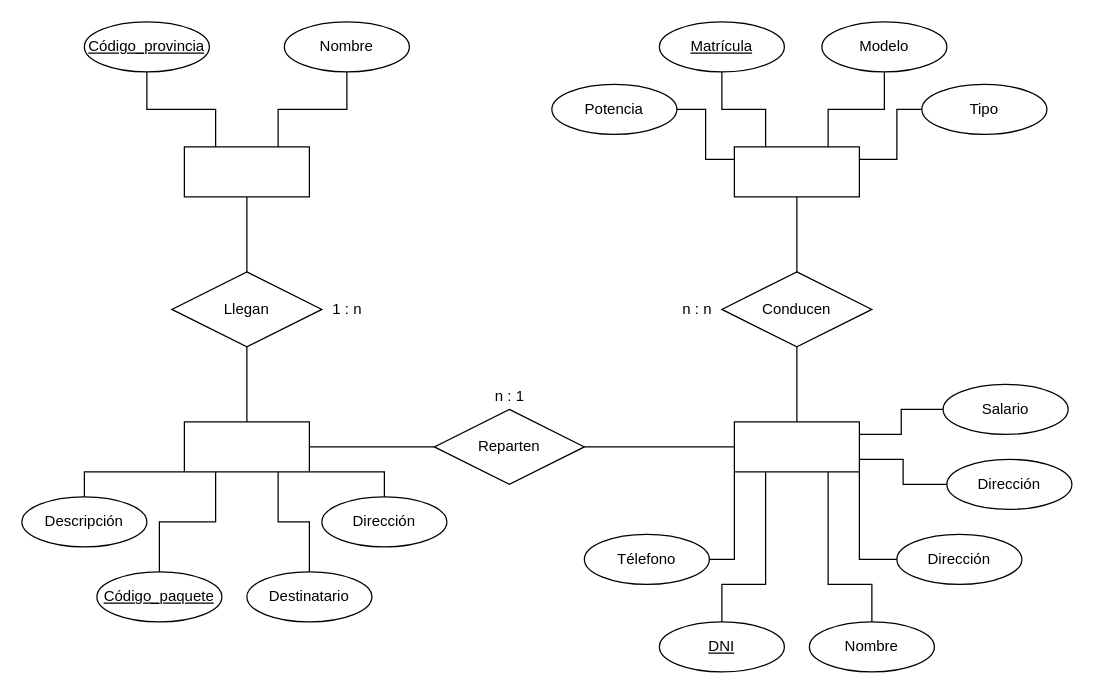
Some shapes in this 1094 by 694 pixel diagram are drawn without their labels. The box of each missing label's shape, as (x1, y1, x2, y2) in pixels:
Camioneros: (733, 421, 859, 472)
Camiones: (733, 146, 859, 197)
Paquetes: (183, 421, 309, 472)
Provincias: (183, 146, 309, 197)
